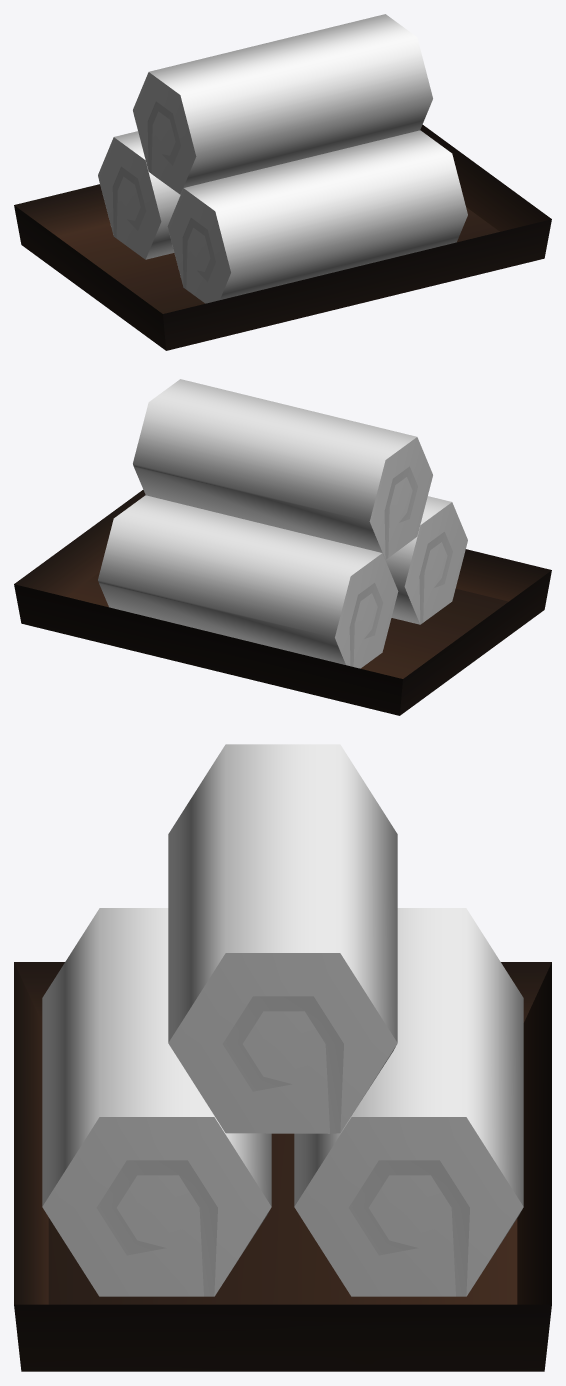
File: SK_Towel.FBX
3 renders of one model, top to bottom at view 1: azimuth 30°, elevation 25°; view 2: azimuth 150°, elevation 25°; view 3: azimuth 270°, elevation 25°, orthographic. The views are drawn at different scales.
Parts seen in each view (by area): view 1: SK_towel; view 2: SK_towel; view 3: SK_towel.
Part boxes in pixels (x1,y1,x2,y2): SK_towel: [14, 14, 551, 350]; SK_towel: [14, 379, 551, 715]; SK_towel: [14, 744, 551, 1371].
Size of the model in its own units: 34.16 by 16.55 by 22.65.
